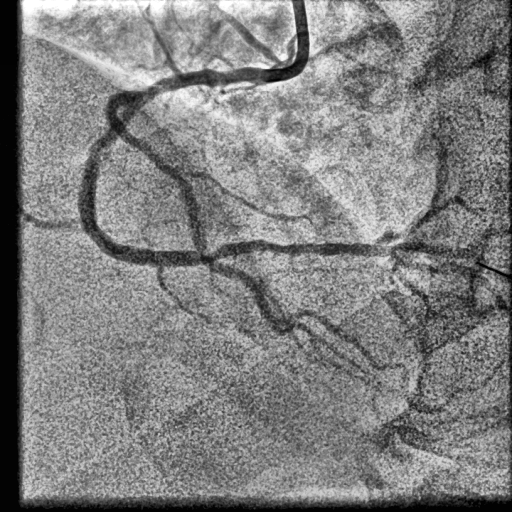pborca: (376, 136, 449, 244)
pda: (376, 241, 476, 258)
rca: (78, 68, 375, 266)
